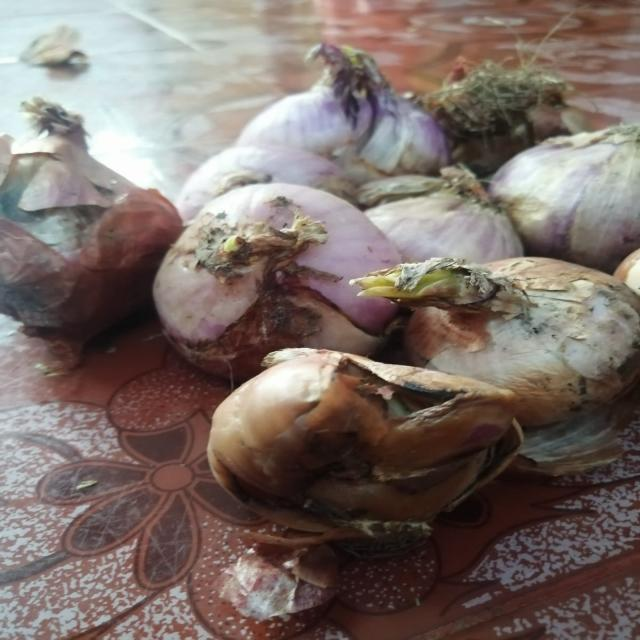rotten: (312, 368, 462, 433), (11, 178, 86, 257), (340, 85, 386, 156), (362, 194, 432, 206)
sprouting: (348, 270, 506, 298)
